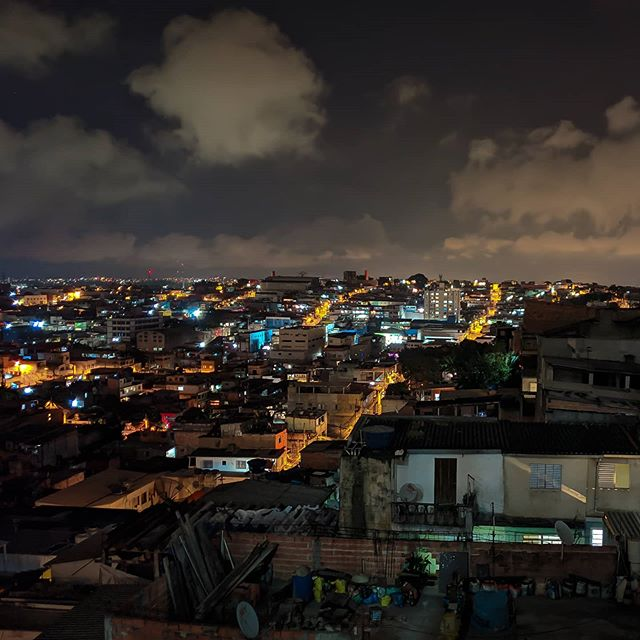building: (517, 311, 640, 420), (194, 414, 292, 477), (102, 307, 166, 352), (414, 284, 461, 332), (266, 326, 319, 364)
sky: (1, 1, 634, 279)
trash: (180, 543, 423, 640)
